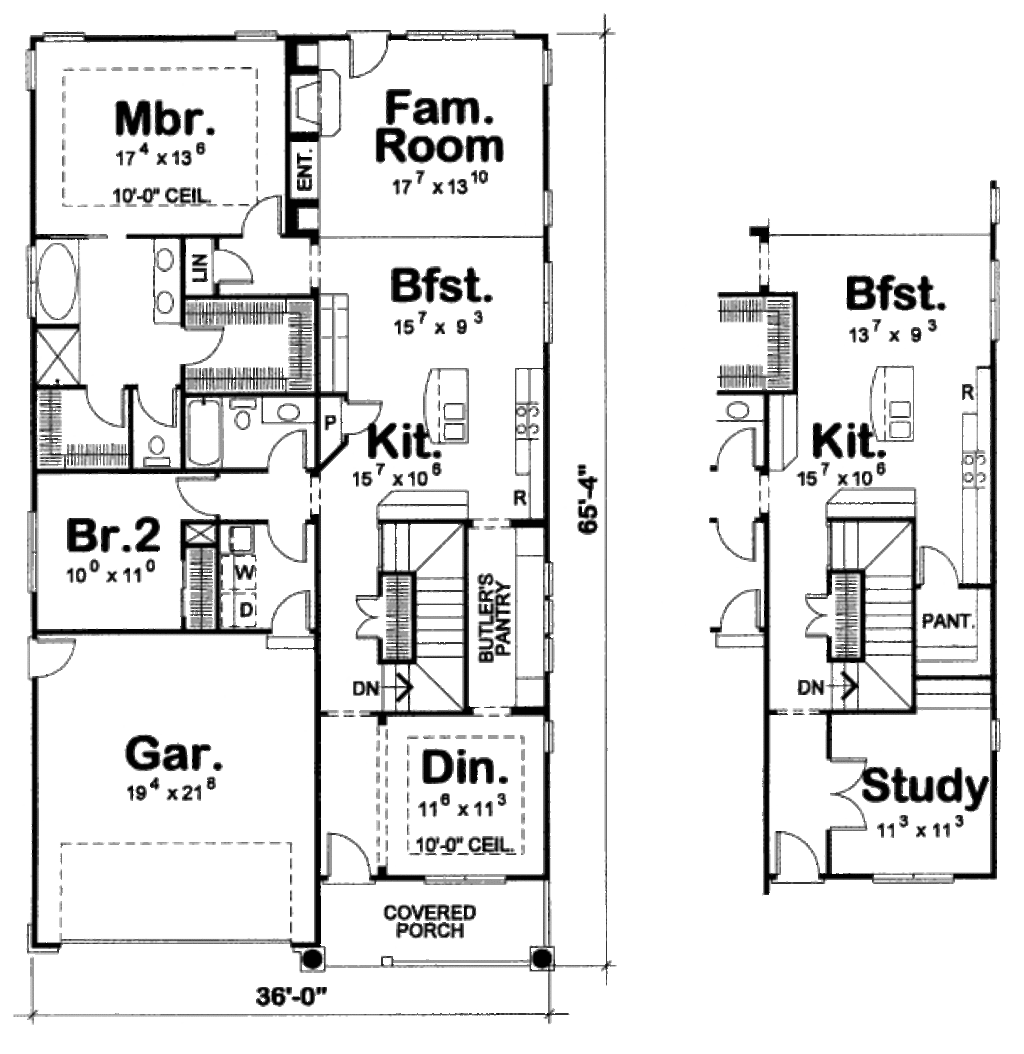door: (309, 823, 377, 893), (711, 576, 766, 645), (266, 582, 322, 649), (339, 22, 396, 83), (771, 825, 822, 889), (912, 544, 973, 597), (26, 631, 85, 682), (239, 193, 291, 243), (177, 471, 229, 518), (353, 587, 391, 647), (712, 517, 762, 562), (128, 381, 179, 425), (710, 429, 763, 470), (83, 384, 130, 430), (177, 322, 224, 364), (338, 396, 383, 439), (266, 523, 311, 563), (266, 426, 306, 469), (801, 581, 829, 642), (212, 248, 253, 283)
kitchen_bar: (864, 363, 926, 451), (426, 359, 467, 446)
large_sink: (142, 423, 175, 467), (228, 396, 259, 431)
small_sink: (150, 235, 185, 321), (265, 401, 311, 422)
stairs: (360, 486, 478, 707), (824, 474, 925, 707)
tub: (30, 237, 86, 323), (188, 394, 228, 469)
twin_sink: (881, 397, 915, 439), (441, 395, 468, 446)
window: (528, 540, 559, 683), (414, 870, 514, 895), (21, 511, 49, 598), (983, 256, 1009, 344), (527, 179, 564, 240), (531, 713, 568, 754)
